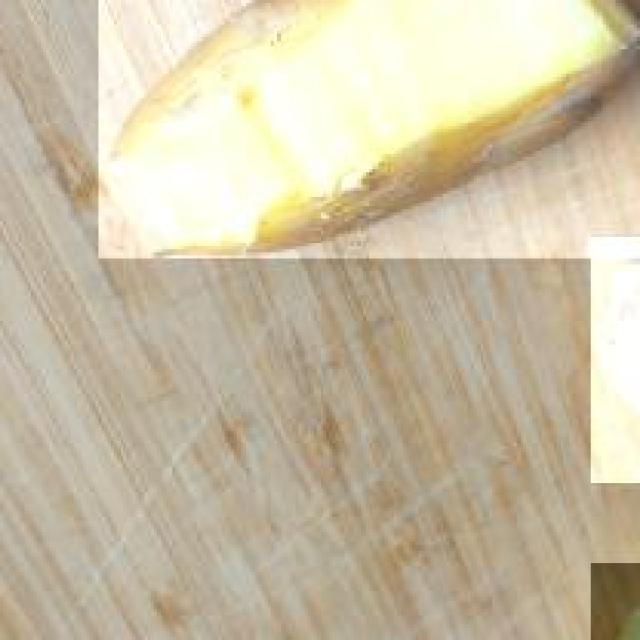potato: (95, 0, 639, 258)
